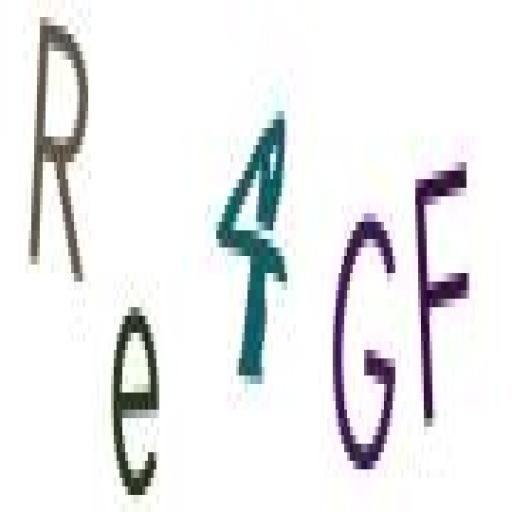4: (209, 93, 295, 407)
F: (410, 153, 476, 447)
G: (323, 186, 403, 483)
R: (27, 13, 91, 288)
e: (109, 298, 162, 510)
